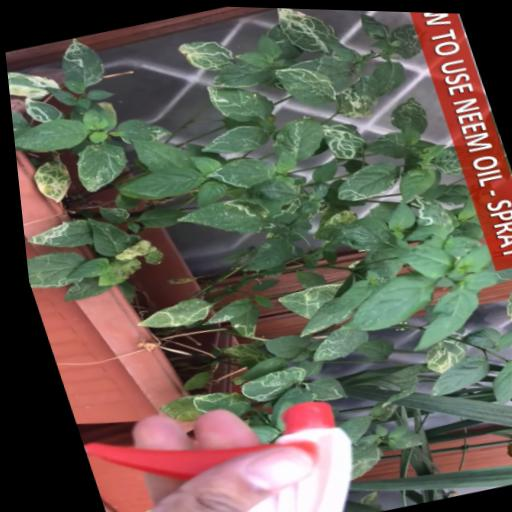Healthy: (477, 363, 512, 404), (503, 343, 512, 366)
Leaf_Miner: (167, 189, 272, 249), (107, 158, 207, 208), (270, 6, 346, 63), (200, 72, 277, 128), (64, 136, 134, 195), (196, 149, 279, 197), (124, 292, 210, 337), (269, 56, 339, 111), (325, 155, 403, 204), (261, 109, 329, 165), (267, 278, 347, 324), (190, 118, 272, 161), (294, 318, 368, 365), (226, 361, 305, 405), (50, 33, 108, 92), (20, 245, 88, 294), (17, 214, 91, 259), (226, 230, 297, 275), (21, 152, 76, 208), (324, 71, 383, 123), (174, 32, 241, 77), (5, 60, 62, 110), (205, 55, 276, 95), (180, 383, 246, 425), (77, 209, 130, 261), (315, 114, 369, 163), (403, 186, 454, 237), (410, 330, 465, 374), (111, 110, 171, 149), (380, 93, 431, 138), (212, 335, 269, 375), (355, 126, 411, 165), (188, 294, 252, 327), (329, 439, 380, 480), (145, 391, 201, 428), (51, 271, 111, 304), (292, 369, 340, 405), (17, 90, 63, 127), (218, 305, 261, 341), (384, 20, 422, 60), (423, 142, 461, 177), (425, 179, 469, 208), (488, 268, 512, 320), (261, 195, 302, 220), (92, 201, 128, 227), (316, 204, 355, 227), (8, 103, 28, 147), (483, 257, 512, 282), (341, 431, 371, 447)
